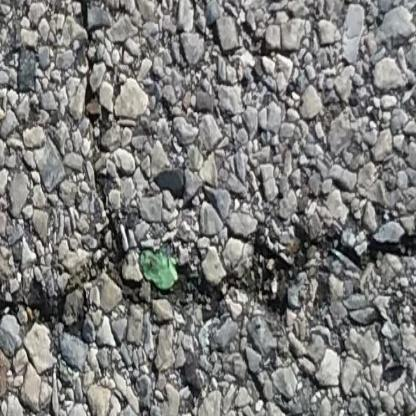Cracks: (0, 45, 416, 330), (73, 0, 94, 41)
